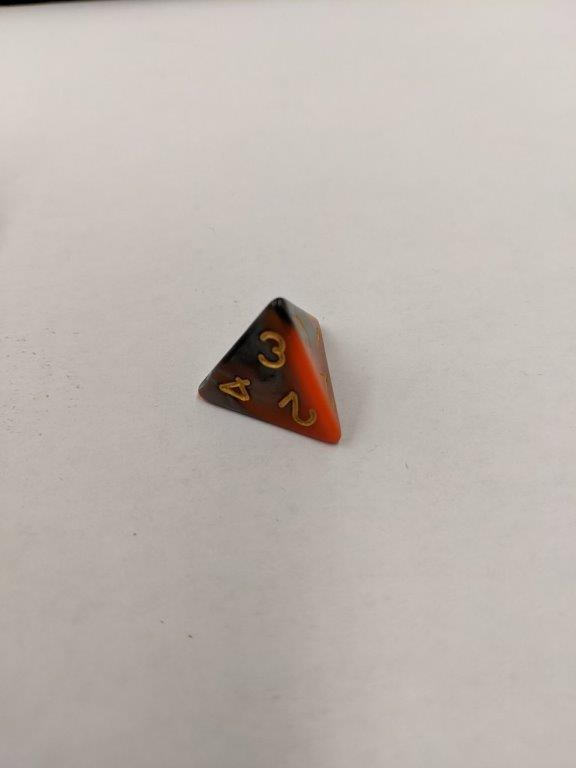d4-3: (191, 296, 344, 451)
